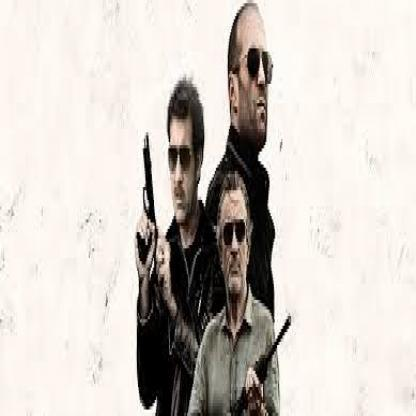Pistol: (129, 126, 158, 262)
